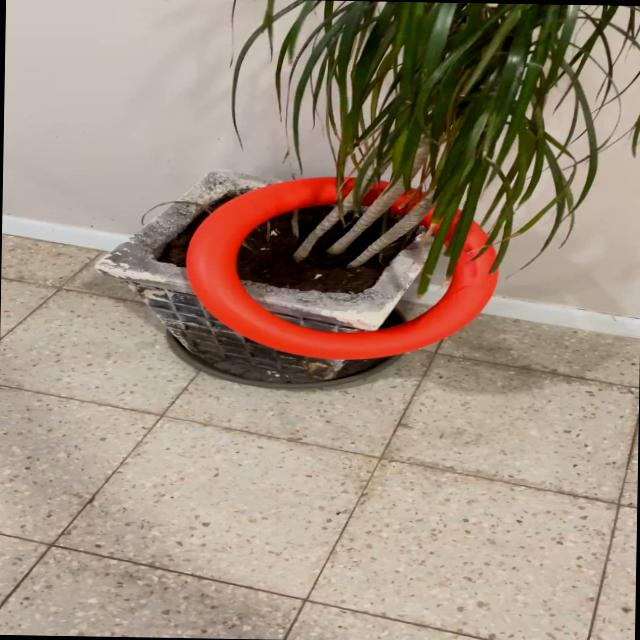note: (180, 172, 503, 364)
